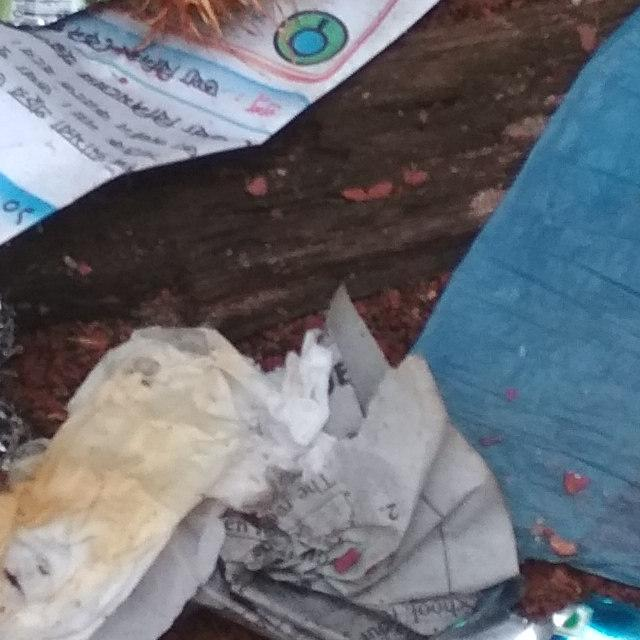paper: (0, 0, 546, 303), (168, 245, 565, 640), (0, 297, 378, 640)
